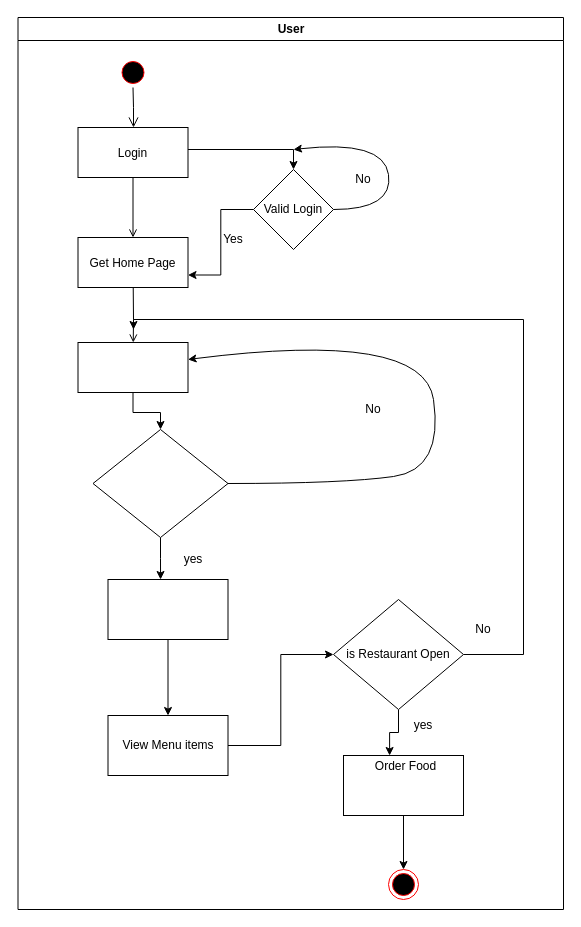
Some shapes in this 581 by 927 pixel diagram are drawn without their labels. The shapes that lost their labels are listed below. From the top down, each one's box as (x1, y1, x2, y2) in pixels, then its label:
(77, 342, 188, 392): Find Restaurant
(92, 428, 228, 538): is Valid Restaurant
(107, 578, 228, 640): Show Timing For Restaurant
